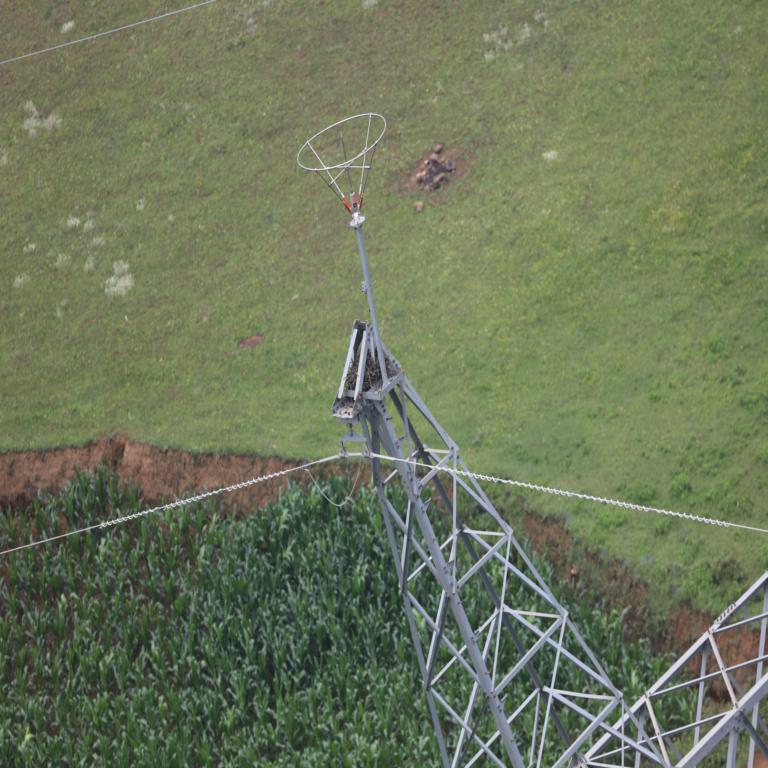nest: (347, 350, 395, 389)
